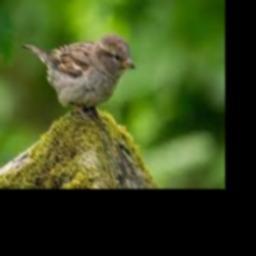Sparrow: (22, 31, 136, 119)
